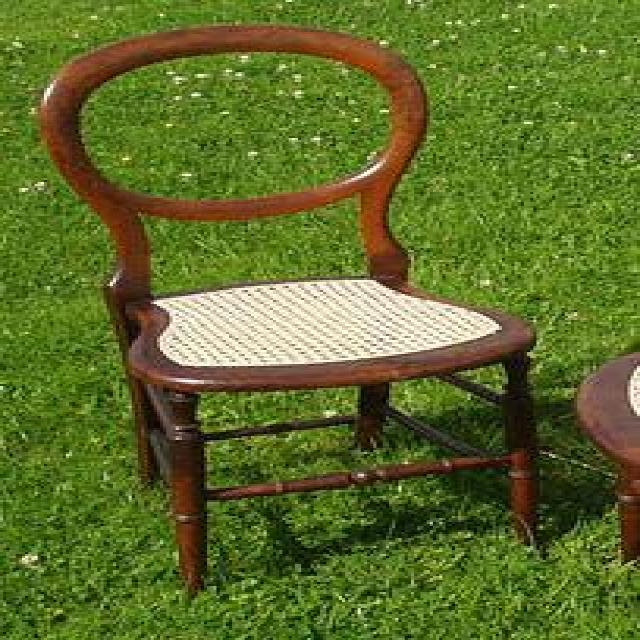chair: (35, 22, 548, 597)
